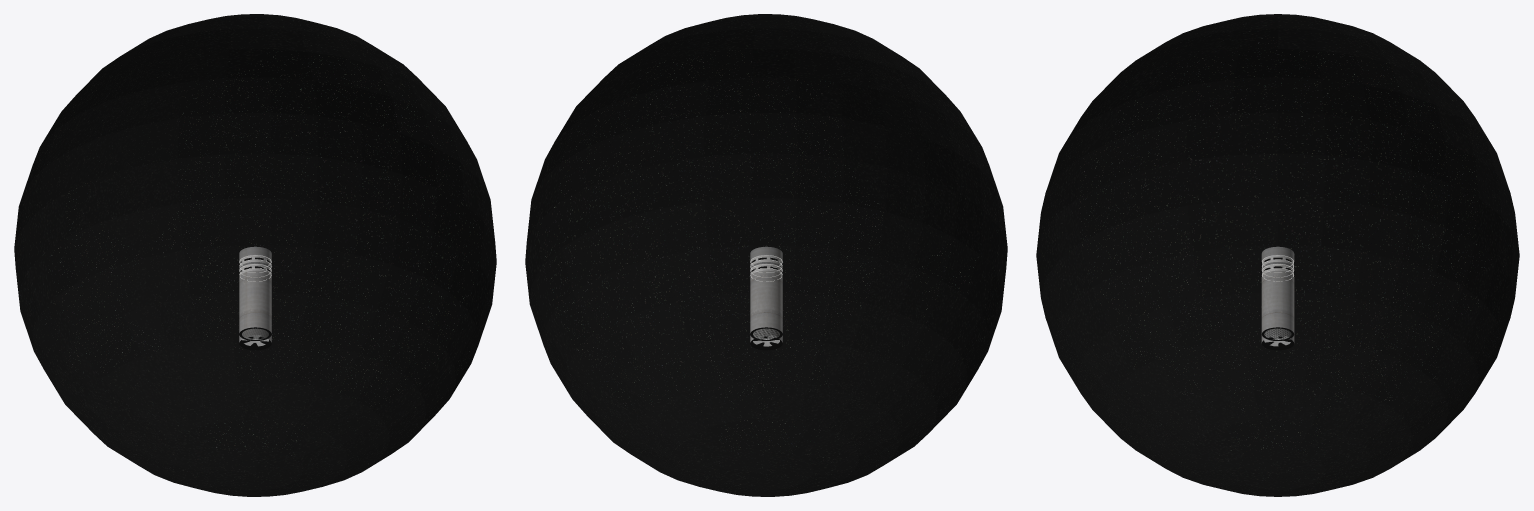
The model's file is environment.glb.
3 renders of one model, left to right at view 1: azimuth 30°, elevation 25°; view 2: azimuth 150°, elevation 25°; view 3: azimuth 270°, elevation 25°, orthographic.
Parts seen in each view (by area): view 1: space, warehouse; view 2: space, warehouse; view 3: space, warehouse.
Part boxes in pixels (x1,y1,x2,y2): space: (14, 14, 496, 496); warehouse: (239, 246, 271, 350); space: (525, 14, 1007, 496); warehouse: (750, 246, 782, 350); space: (1036, 14, 1519, 496); warehouse: (1261, 246, 1294, 350).
Size of the model in its own units: 463 by 463 by 463.
5 materials, 5 textured.
